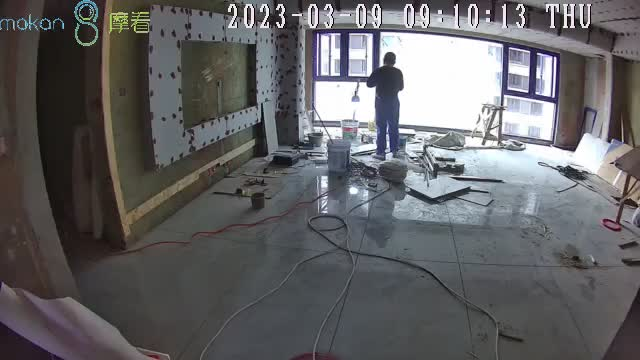people: (366, 52, 407, 158)
window: (311, 32, 557, 145)
